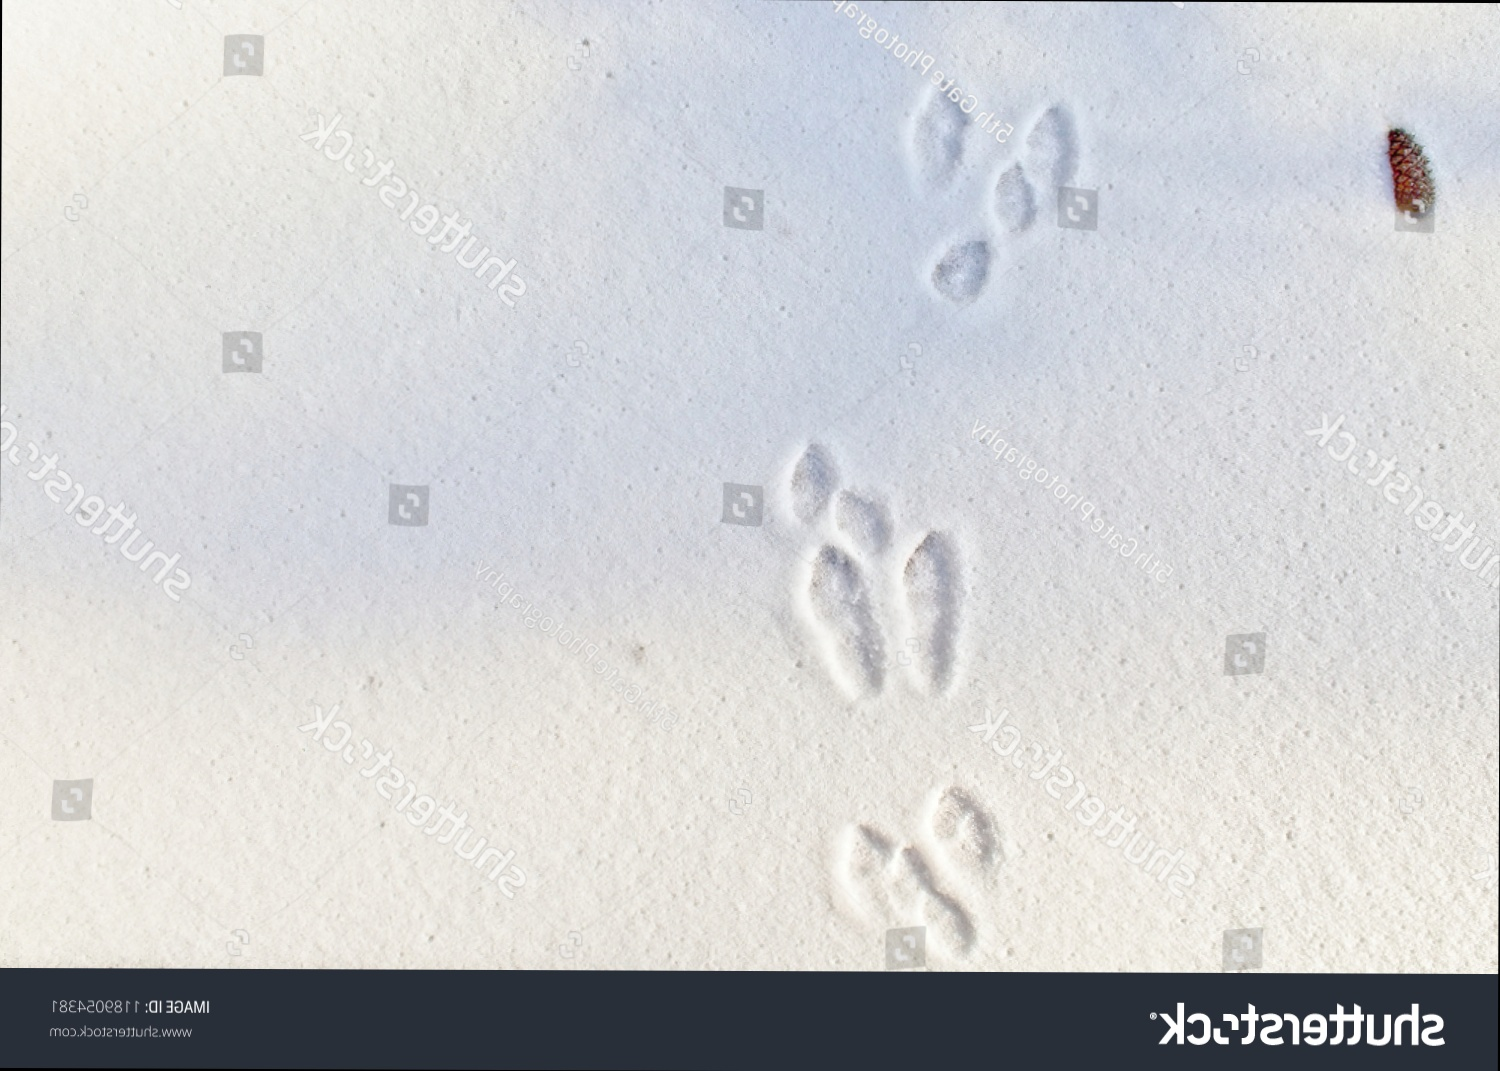rabbit: (859, 63, 1111, 341)
